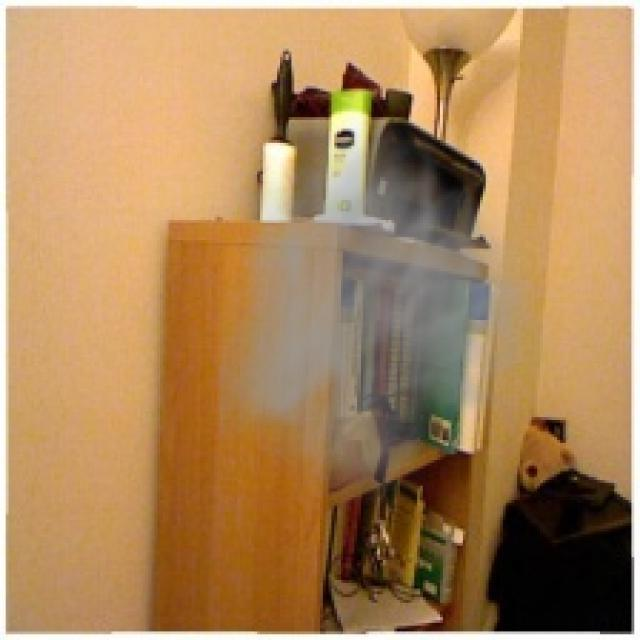Smoke: (220, 106, 563, 520)
